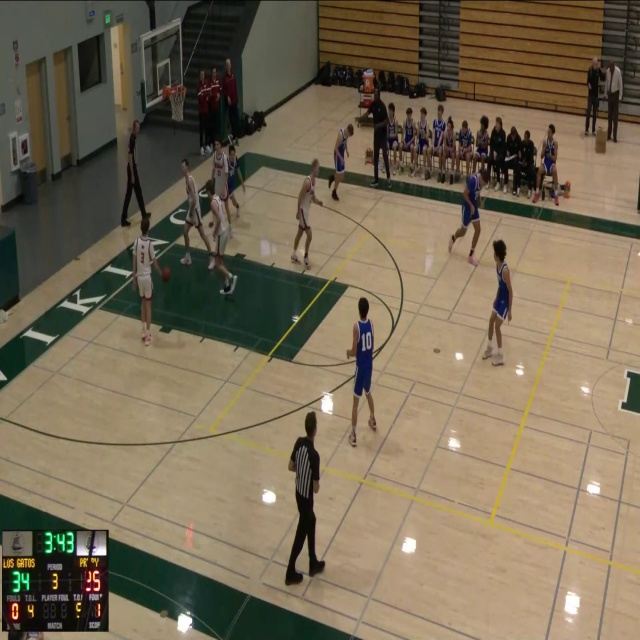Basketball: (161, 267, 170, 282)
